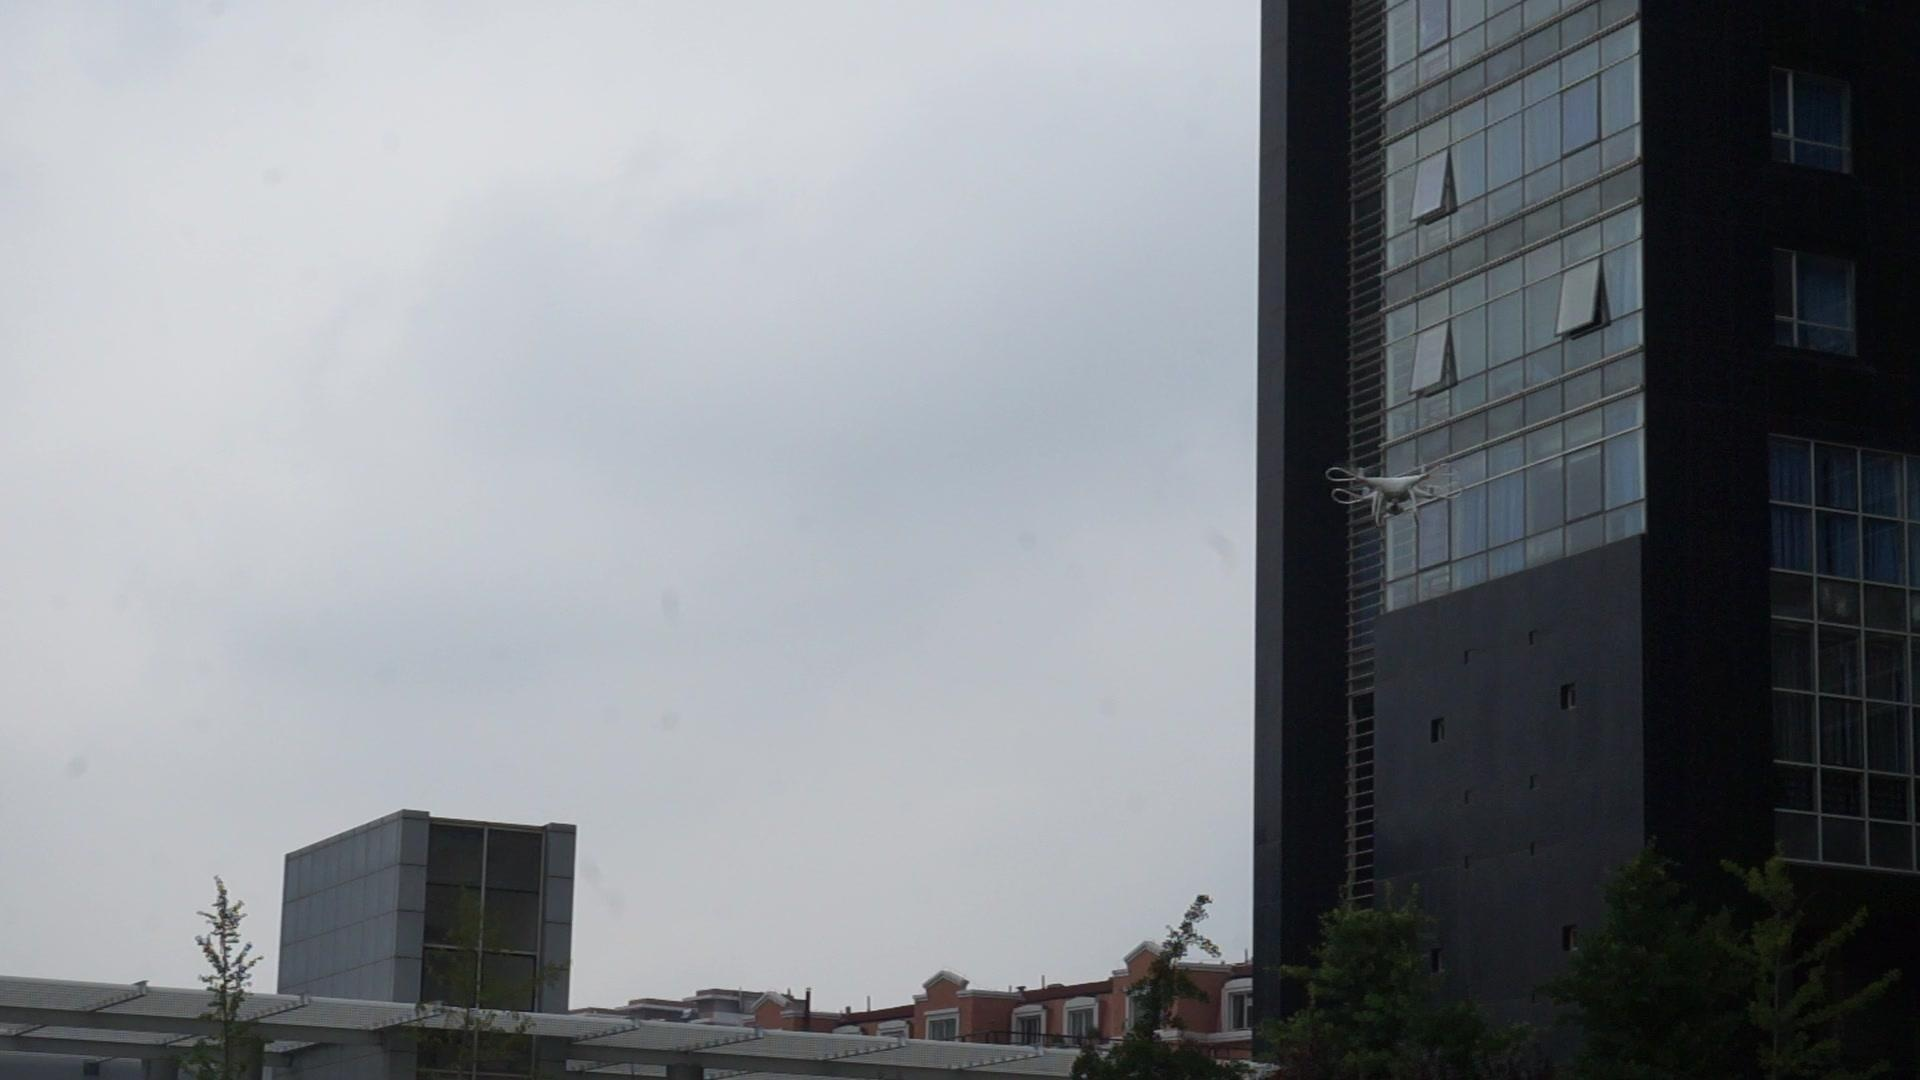UAV: (1325, 463, 1464, 527)
